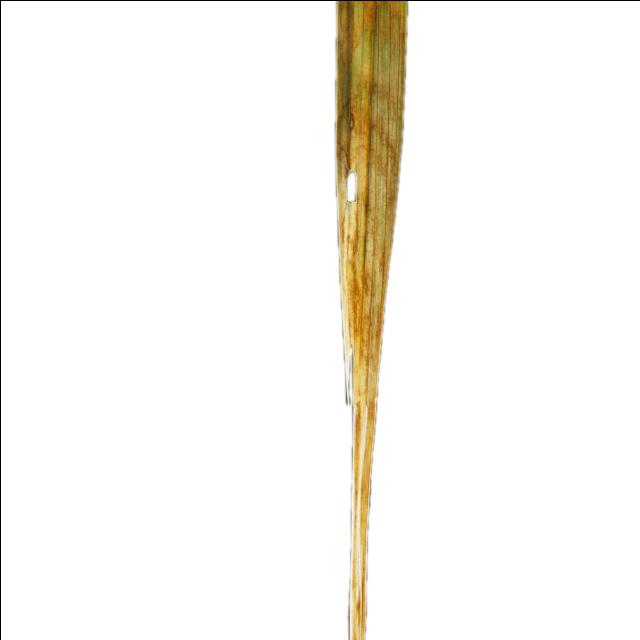Leaf scald: (202, 0, 545, 640)
